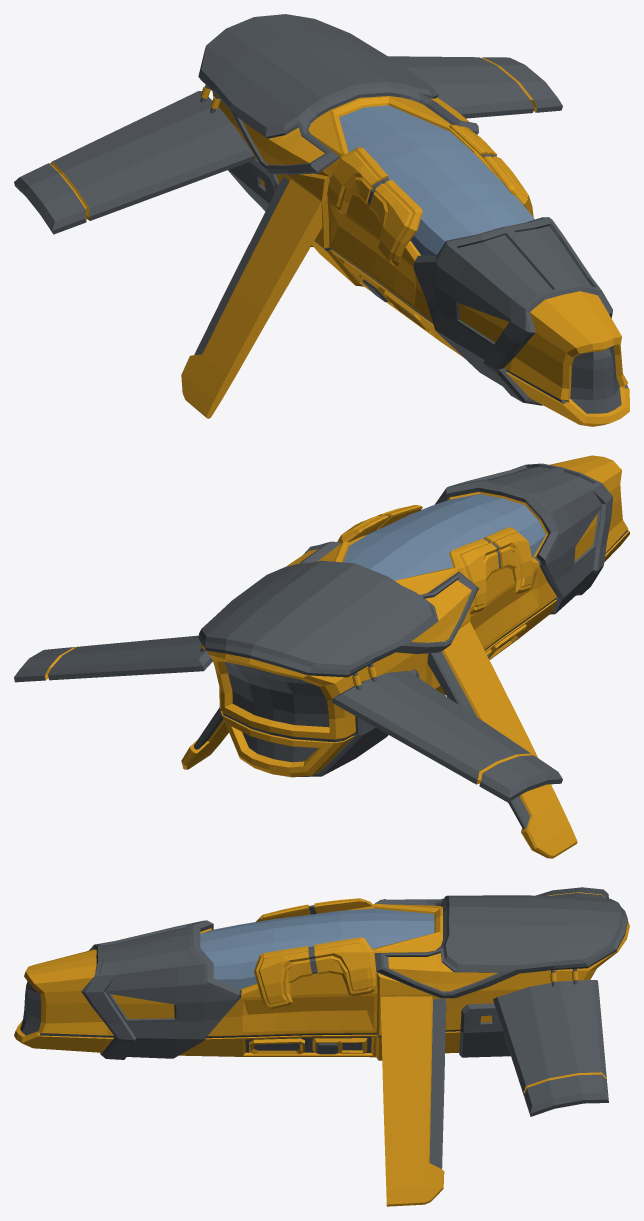
Rendered from Fighter_06_Yellow.fbx.
The picture shows the model from 3 angles, top to bottom: view 1: azimuth 30°, elevation 25°; view 2: azimuth 150°, elevation 25°; view 3: azimuth 270°, elevation 25°; orthographic projection. The views are drawn at different scales.
Visible parts, largest first — view 1: Fighter_06_Yellow; view 2: Fighter_06_Yellow; view 3: Fighter_06_Yellow.
Boxes of the visible parts, <box> form: Fighter_06_Yellow: <box>14,14,629,426</box>; Fighter_06_Yellow: <box>14,455,629,858</box>; Fighter_06_Yellow: <box>14,887,629,1206</box>.
Bounding box in the file's own units: 1051 × 517 × 1291.
3 materials, 3 textured.
